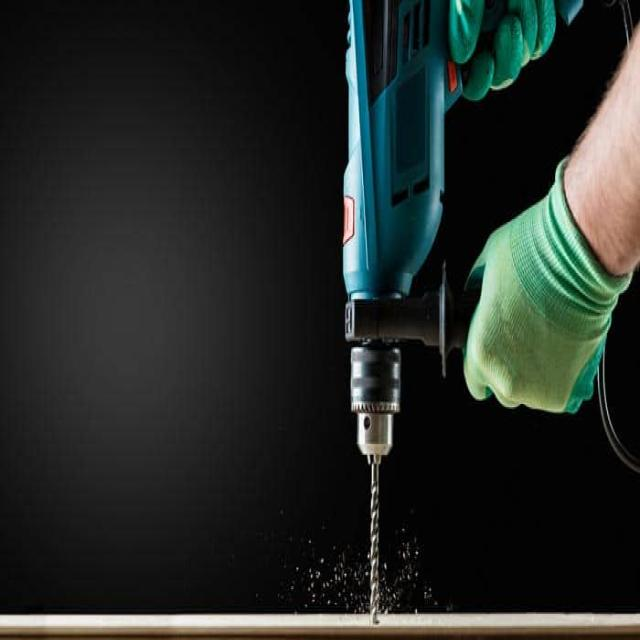gloves: (457, 151, 634, 415), (448, 0, 583, 93)
